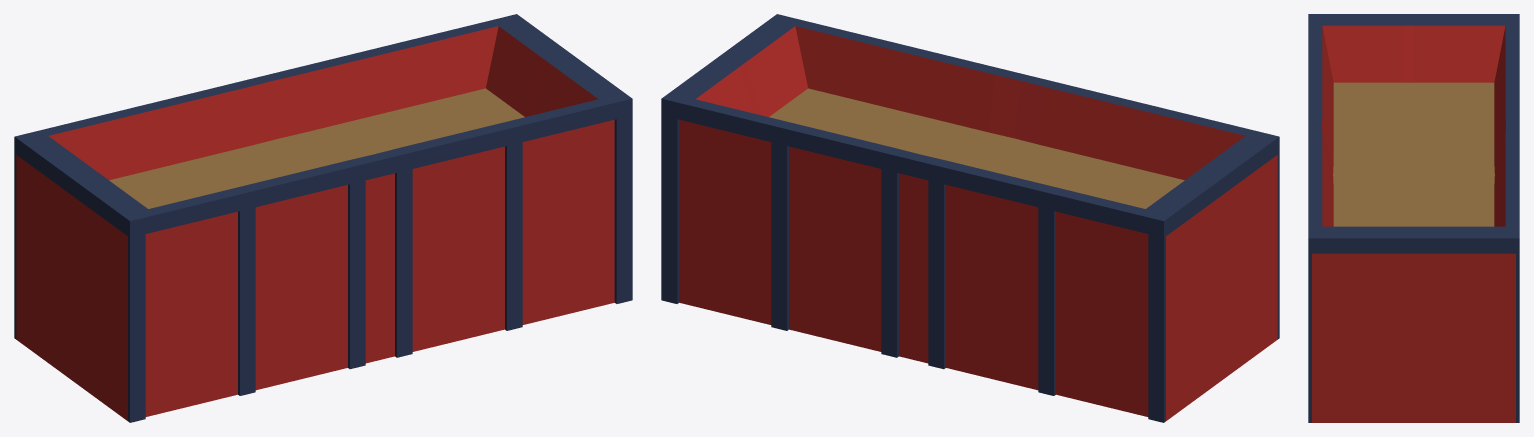
The model's file is LCargoModel09.fbx.
3 renders of one model, left to right at view 1: azimuth 30°, elevation 25°; view 2: azimuth 150°, elevation 25°; view 3: azimuth 270°, elevation 25°, orthographic. The views are drawn at different scales.
Visible parts, largest first — view 1: LCargoModel09; view 2: LCargoModel09; view 3: LCargoModel09.
Boxes of the visible parts, box(x1,y1,x2,y2) form: LCargoModel09: box(14, 14, 632, 422); LCargoModel09: box(661, 14, 1279, 422); LCargoModel09: box(1308, 14, 1519, 422).
Bounding box in the file's own units: 731 × 280 × 291.
